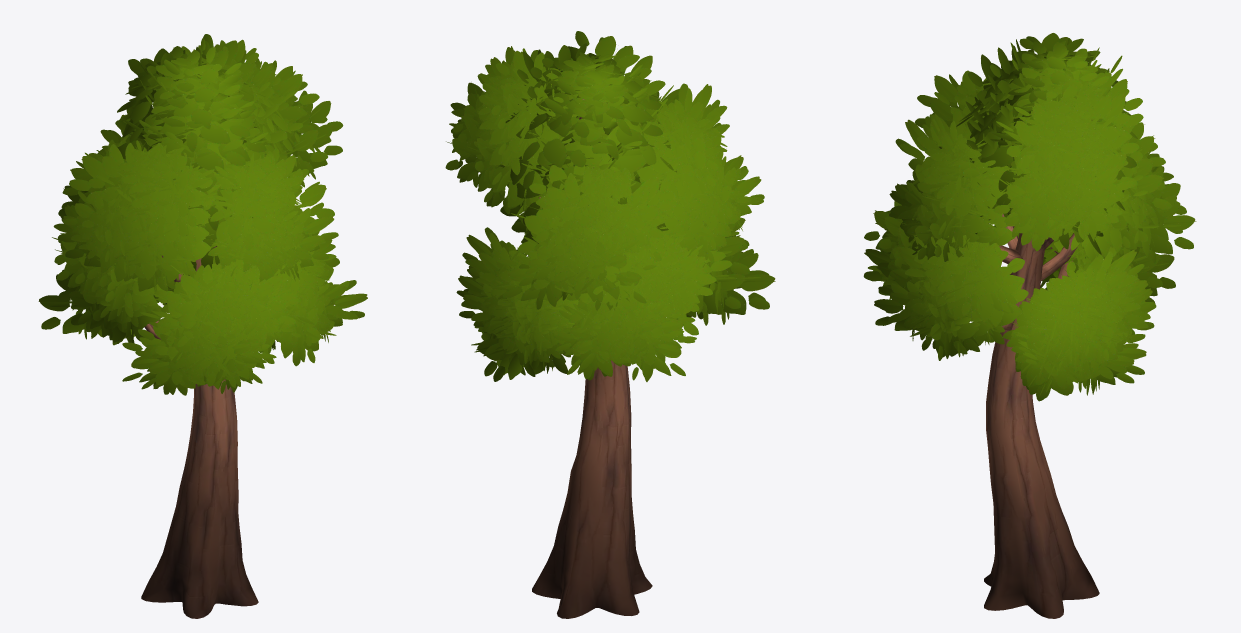
Rendered from CommonTree_1.glb.
3 views of the same model, side by side, from view 1: azimuth 30°, elevation 25°; view 2: azimuth 150°, elevation 25°; view 3: azimuth 270°, elevation 25° (orthographic). The views are drawn at different scales.
Visible parts, largest first — view 1: CommonTree_1; view 2: CommonTree_1; view 3: CommonTree_1.
Part boxes in pixels (left/top/right/bottom): CommonTree_1: left=38, top=34, right=367, bottom=618; CommonTree_1: left=445, top=31, right=775, bottom=618; CommonTree_1: left=863, top=33, right=1196, bottom=618.
Size of the model in its own units: 4.31 by 7.26 by 4.58.
2 materials, 2 textured.
